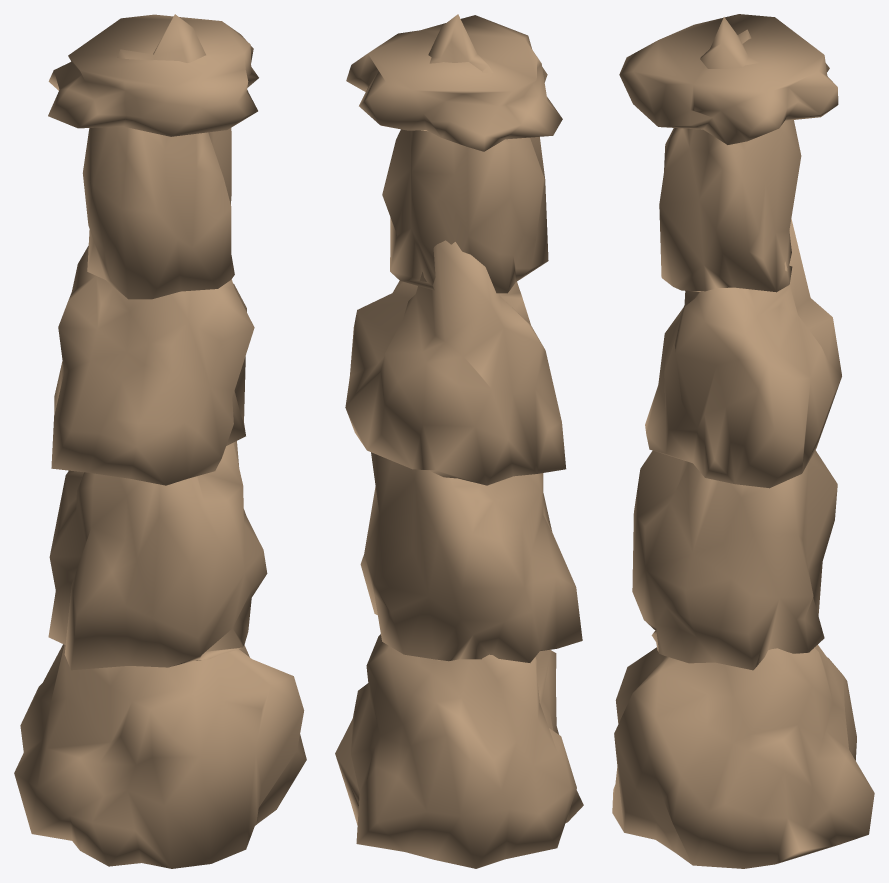
File: sandstone-pillar-tall-lod1.glb
3 views of the same model, side by side, from view 1: azimuth 30°, elevation 25°; view 2: azimuth 150°, elevation 25°; view 3: azimuth 270°, elevation 25° (orthographic). The views are drawn at different scales.
Visible parts, largest first — view 1: sandstone-pillar-tall.001; view 2: sandstone-pillar-tall.001; view 3: sandstone-pillar-tall.001.
Boxes of the visible parts, <box> form: sandstone-pillar-tall.001: <box>14,14,306,868</box>; sandstone-pillar-tall.001: <box>335,14,583,868</box>; sandstone-pillar-tall.001: <box>612,14,874,868</box>.
Size of the model in its own units: 5.69 by 18.84 by 5.55.
